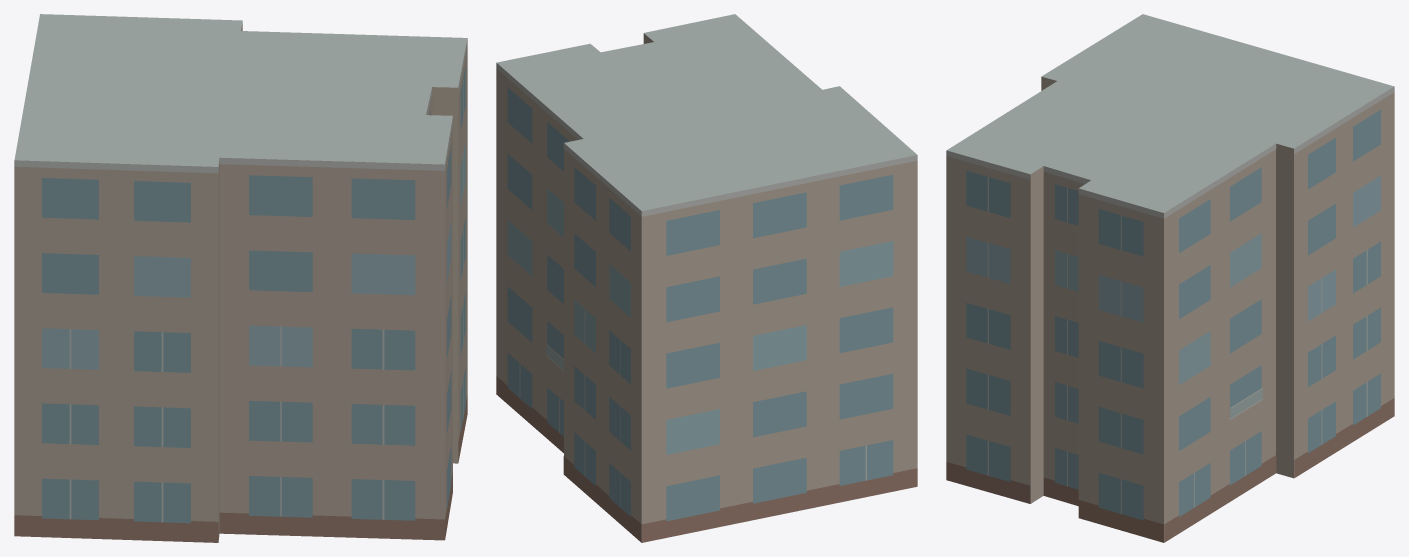
The model's file is survey-upis-32891584.glb.
3 views of the same model, side by side, from view 1: azimuth 30°, elevation 25°; view 2: azimuth 150°, elevation 25°; view 3: azimuth 270°, elevation 25° (orthographic). The views are drawn at different scales.
Visible parts, largest first — view 1: survey-upis-32891584.tmp; view 2: survey-upis-32891584.tmp; view 3: survey-upis-32891584.tmp.
Part boxes in pixels (left/top/right/bottom): survey-upis-32891584.tmp: left=14, top=14, right=467, bottom=542; survey-upis-32891584.tmp: left=496, top=14, right=917, bottom=542; survey-upis-32891584.tmp: left=946, top=14, right=1394, bottom=542.
Bounding box in the file's own units: 18.6 × 14.35 × 17.68.
